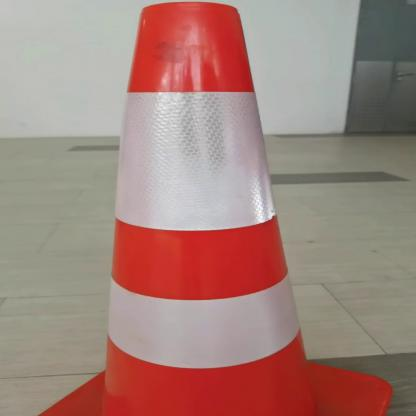cone: (27, 0, 405, 416)
